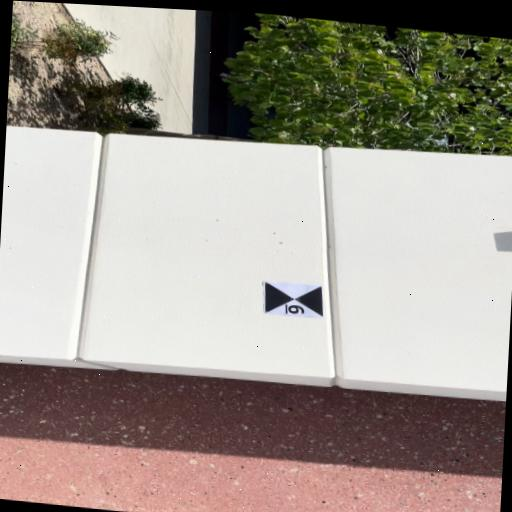target6: (263, 282, 324, 318)
